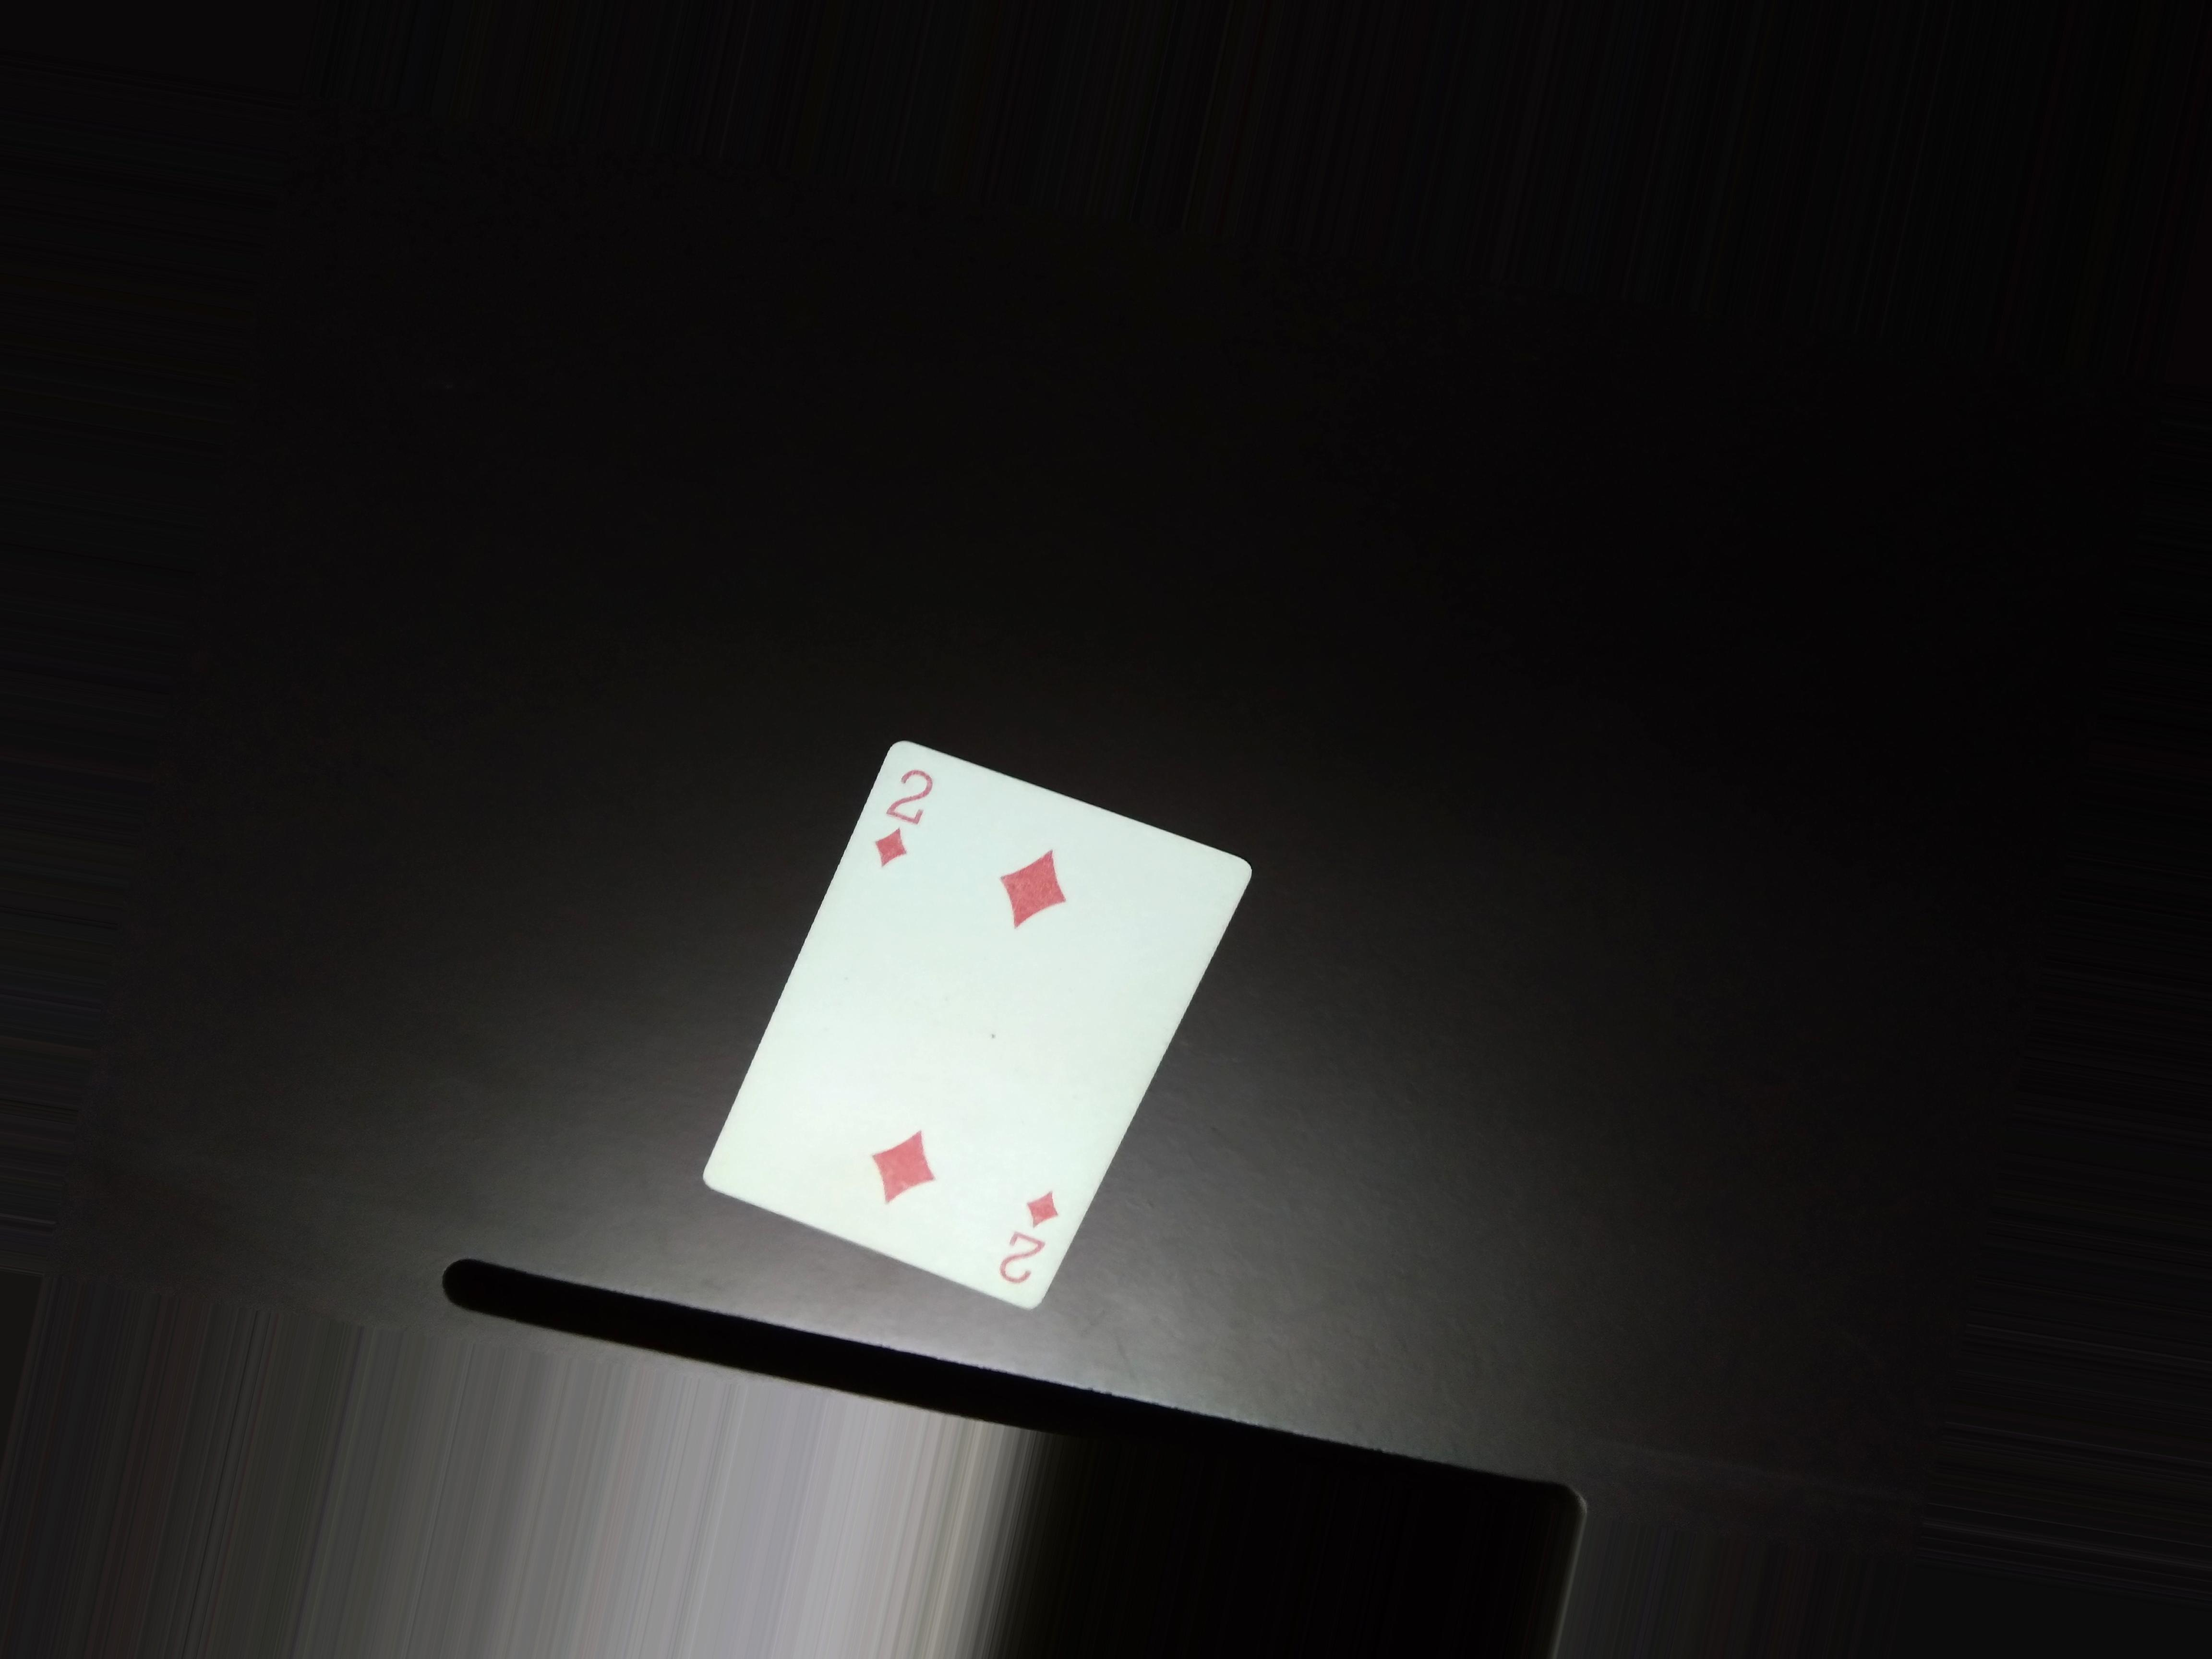2D: (888, 749, 930, 903)
